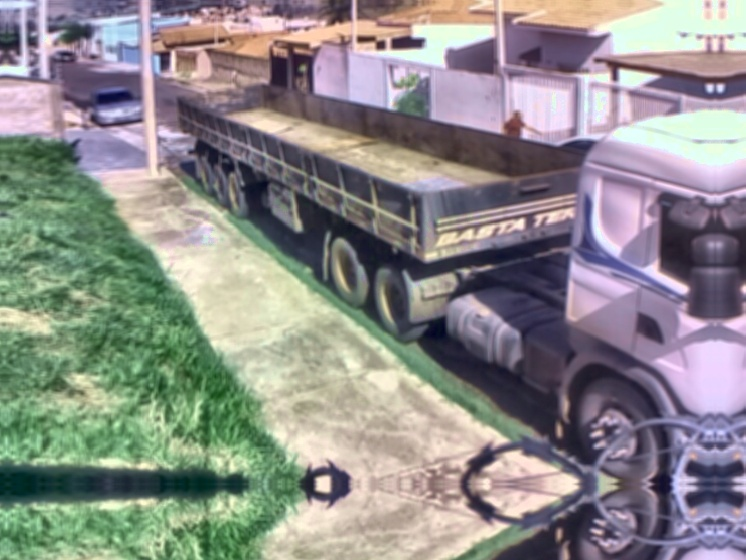person: (500, 107, 545, 143)
